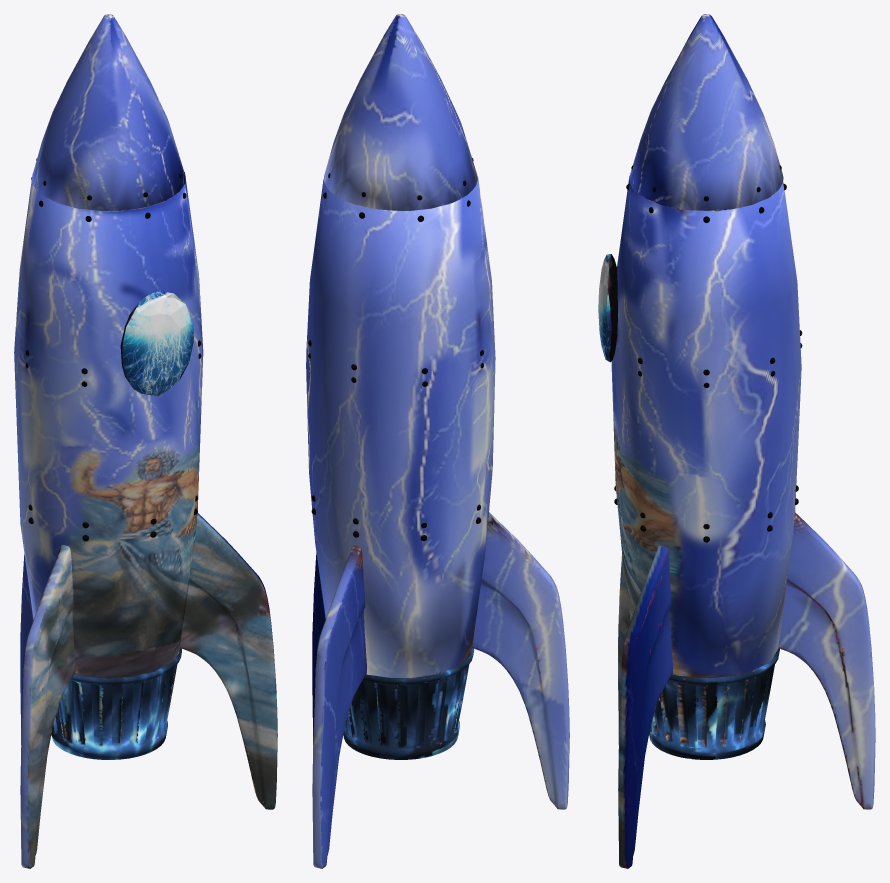
The model's file is zevs.obj.
3 views of the same model, side by side, from view 1: azimuth 30°, elevation 25°; view 2: azimuth 150°, elevation 25°; view 3: azimuth 270°, elevation 25° (orthographic).
Parts seen in each view (by area): view 1: Cylinder.1, Cube_0.1, Cylinder, Cylinder.2, Sphere; view 2: Cylinder.1, Cube_0.1, Cylinder, Cylinder.2, Sphere_0.1; view 3: Cylinder.1, Cube_0.1, Cylinder, Cylinder.2, Sphere, Sphere_0.1.
Part boxes in pixels (x1=…): Cylinder.1: x1=14, y1=172, x2=203, y2=678; Cube_0.1: x1=20, y1=513, x2=277, y2=868; Cylinder: x1=32, y1=14, x2=185, y2=210; Cylinder.2: x1=51, y1=648, x2=181, y2=759; Sphere: x1=120, y1=291, x2=193, y2=395; Cylinder.1: x1=306, y1=177, x2=495, y2=677; Cube_0.1: x1=312, y1=512, x2=569, y2=868; Cylinder: x1=324, y1=14, x2=477, y2=210; Cylinder.2: x1=343, y1=648, x2=474, y2=759; Sphere_0.1: x1=308, y1=192, x2=483, y2=541; Cylinder.1: x1=611, y1=175, x2=801, y2=678; Cube_0.1: x1=618, y1=512, x2=875, y2=868; Cylinder: x1=629, y1=14, x2=783, y2=210; Cylinder.2: x1=649, y1=648, x2=779, y2=759; Sphere: x1=598, y1=254, x2=617, y2=362; Sphere_0.1: x1=614, y1=183, x2=802, y2=542.
Bounding box in the file's own units: 86.73 × 256 × 81.16.
2 materials, 2 textured.
